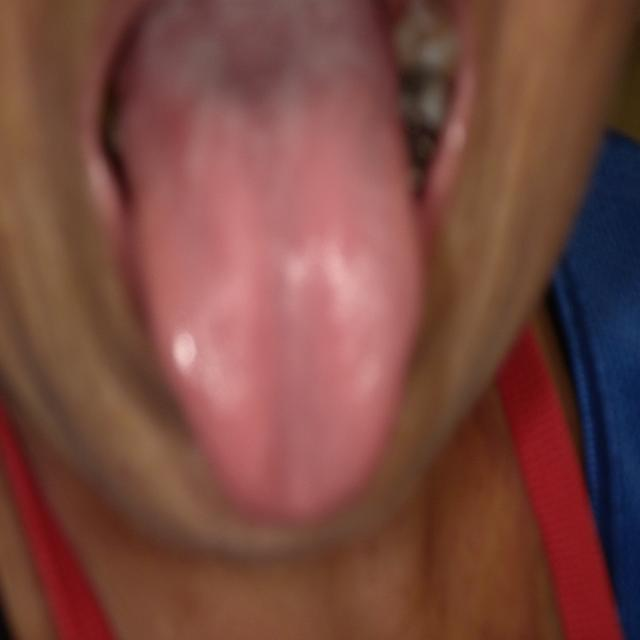baitaishe: (111, 1, 426, 526)
botaishe: (200, 10, 301, 118)
shoushe: (111, 1, 426, 526)
